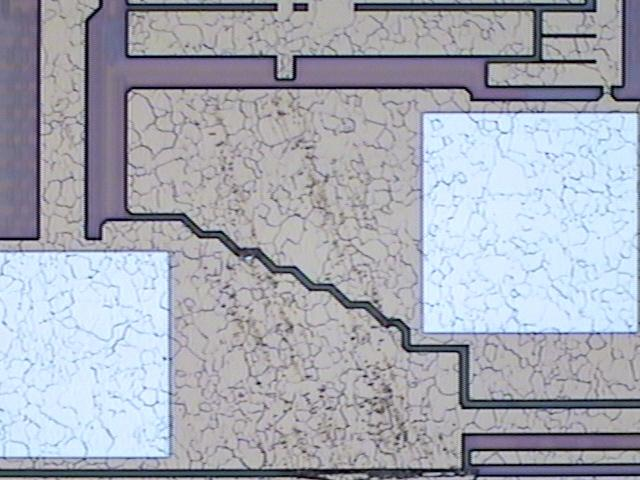SCRATCH: (205, 86, 484, 480)
